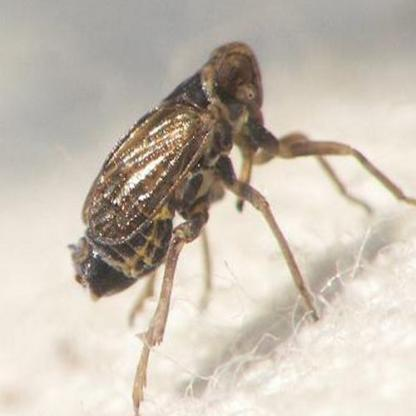brown-planthopper: (66, 33, 286, 306)
